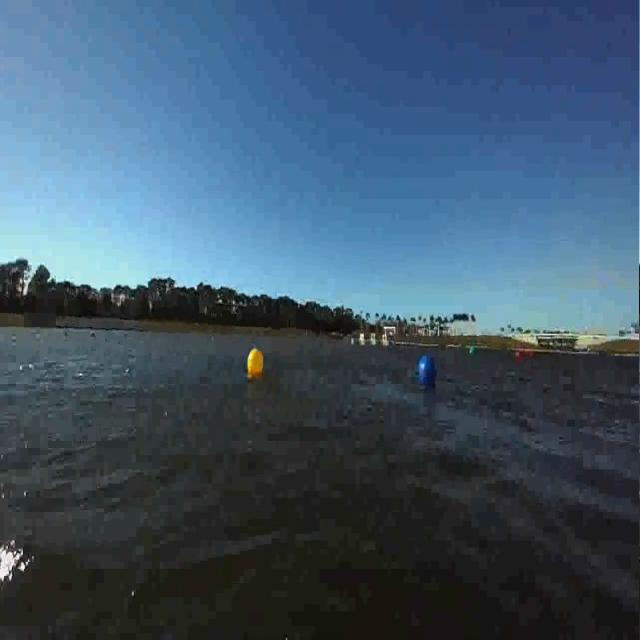blue-buoy: (418, 353, 438, 386)
green-buoy: (468, 344, 477, 357)
yellow-buoy: (247, 347, 265, 378)
